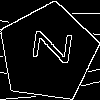Z: (23, 28, 72, 65)
